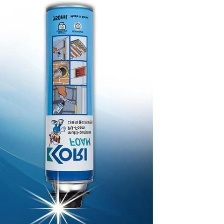aerosol_cans: (40, 1, 100, 211)
